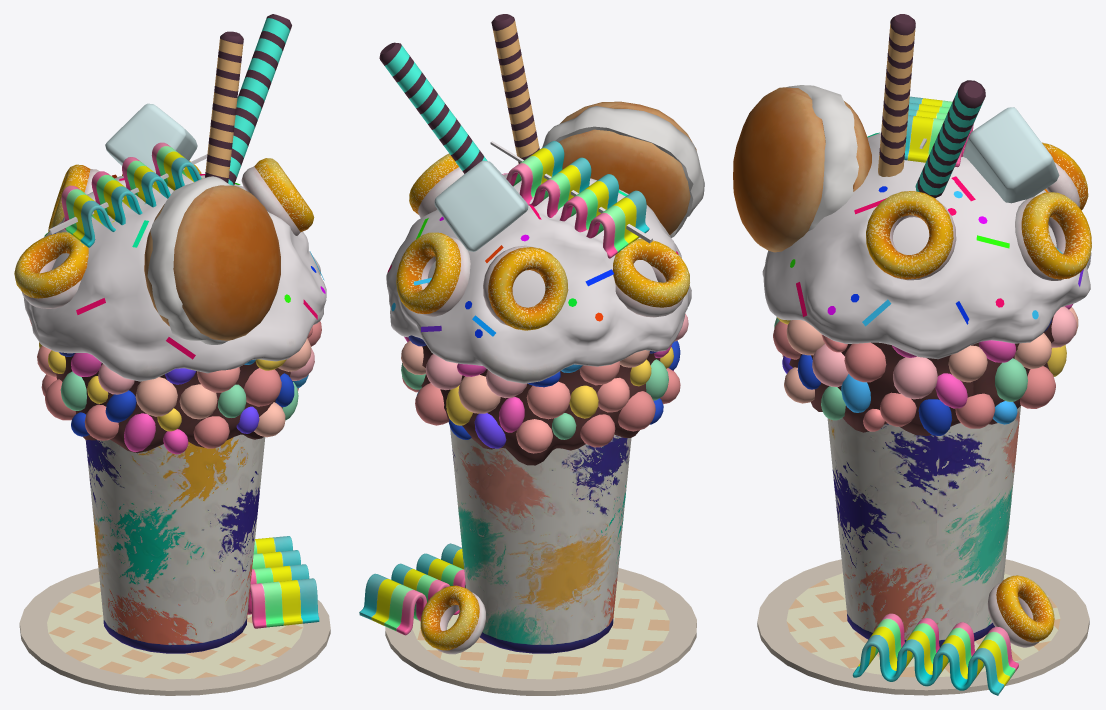
The model's file is BingQiLing_Chai_2.FBX.
The picture shows the model from 3 angles, left to right: view 1: azimuth 30°, elevation 25°; view 2: azimuth 150°, elevation 25°; view 3: azimuth 270°, elevation 25°; orthographic projection. The views are drawn at different scales.
Parts seen in each view (by area): view 1: Object042, Object001, Object041, Object053, Object052, Object038, Object015, Object014, Object020, Object040, Object034, Object037 (+23 smaller); view 2: Object042, Object001, Object053, Object039, Object052, Object040, Object038, Object018, Object037, Object022, Object013, Object020 (+27 smaller); view 3: Object001, Object042, Object041, Object053, Object040, Object015, Object024, Object022, Object052, Object038, Object037, Object034 (+22 smaller).
Part boxes in pixels (box(x1,y1,x2,y2)): Object042: box(85, 434, 265, 653); Object001: box(23, 173, 326, 381); Object041: box(173, 185, 280, 340); Object053: box(19, 568, 330, 695); Object052: box(47, 581, 303, 679); Object038: box(147, 176, 244, 344); Object015: box(41, 321, 321, 448); Object014: box(135, 338, 311, 437); Object020: box(14, 232, 88, 298); Object040: box(105, 103, 197, 173); Object034: box(205, 14, 291, 184); Object037: box(56, 353, 292, 453); Object042: box(450, 427, 631, 653); Object001: box(386, 174, 691, 383); Object053: box(385, 568, 696, 695); Object039: box(558, 129, 690, 235); Object052: box(412, 581, 669, 679); Object040: box(434, 160, 528, 251); Object038: box(542, 106, 704, 237); Object018: box(488, 247, 568, 330); Object037: box(421, 345, 660, 465); Object022: box(396, 232, 461, 313); Object013: box(516, 361, 629, 453); Object020: box(612, 238, 689, 307); Object001: box(762, 133, 1091, 359); Object042: box(827, 406, 1020, 647); Object041: box(733, 87, 825, 252); Object053: box(757, 559, 1089, 695); Object040: box(963, 107, 1059, 203); Object015: box(773, 320, 1055, 428); Object024: box(866, 191, 953, 279); Object022: box(1021, 192, 1091, 279); Object052: box(786, 573, 1060, 676); Object038: box(786, 85, 858, 230); Object037: box(789, 316, 1054, 435); Object034: box(879, 14, 985, 198).
Size of the model in its own units: 150 by 289 by 148.
Materials: 30 (1 with a texture image).
